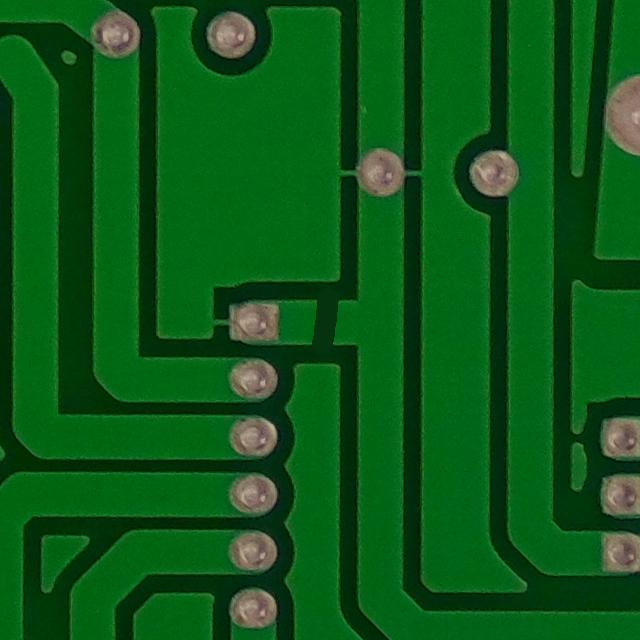open_circuit: (293, 286, 347, 355)
